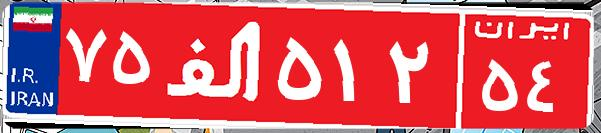1: (330, 28, 385, 110)
2: (385, 28, 445, 110)
4: (525, 38, 570, 115)
5: (273, 28, 330, 110), (475, 38, 525, 113), (110, 28, 158, 105)
7: (57, 26, 110, 107)
الف: (158, 15, 273, 115)
